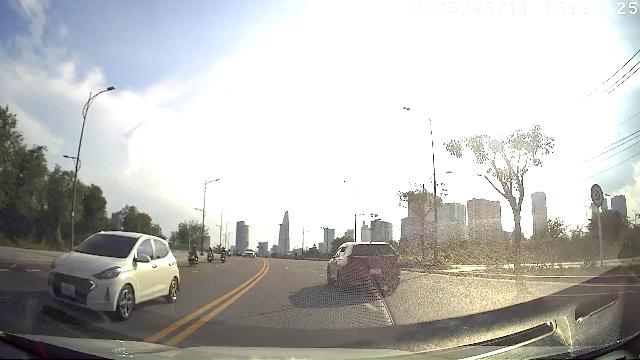127-toc-do-toi-da-50: (590, 184, 604, 208)
